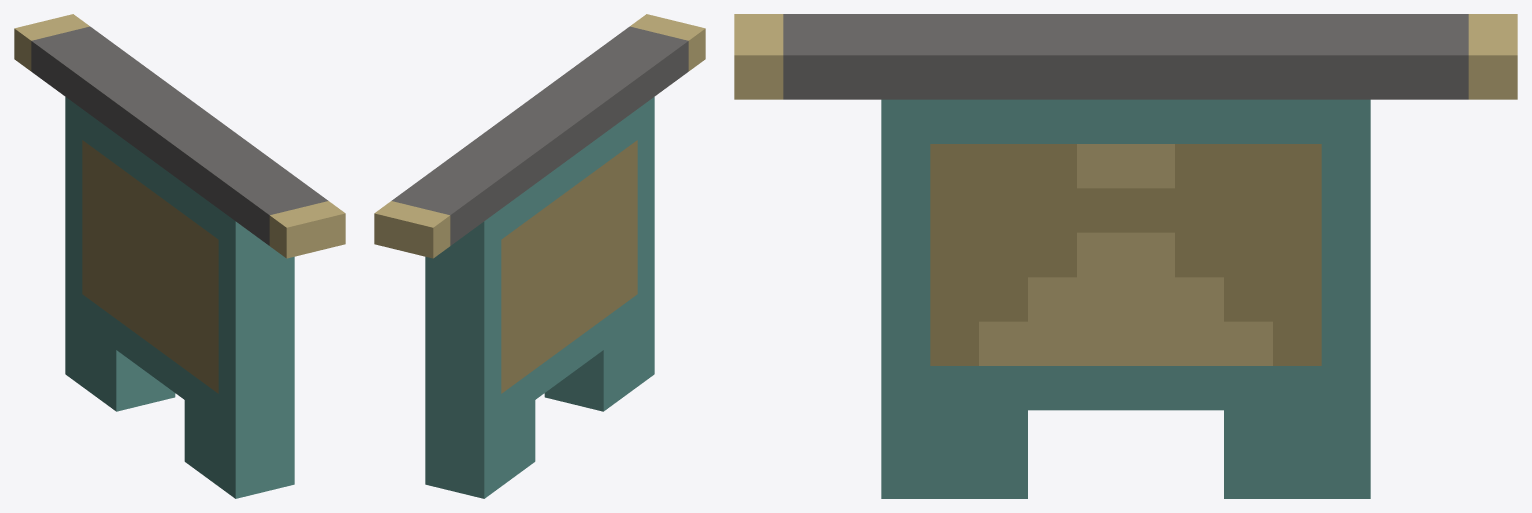
The model's file is banner_sr.glb.
The picture shows the model from 3 angles, left to right: view 1: azimuth 30°, elevation 25°; view 2: azimuth 150°, elevation 25°; view 3: azimuth 270°, elevation 25°; orthographic projection. The views are drawn at different scales.
Bounding box in the file's own units: 2 × 10 × 16.
